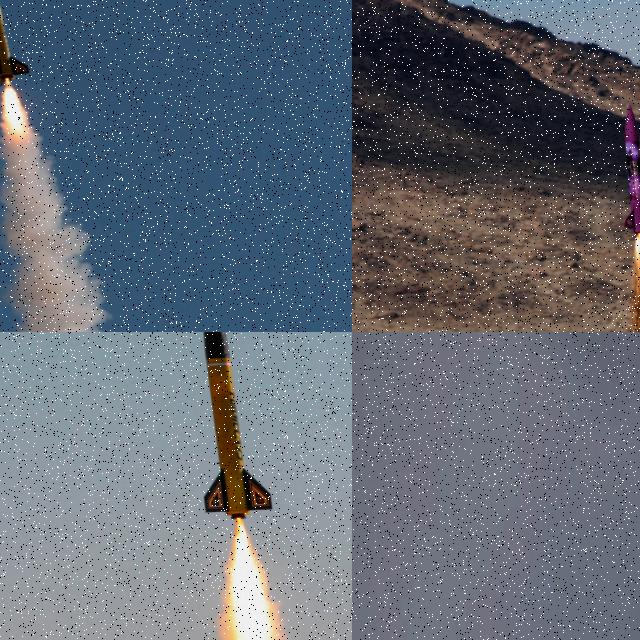Rocket: (200, 332, 275, 518), (0, 0, 30, 85), (621, 103, 640, 235)
